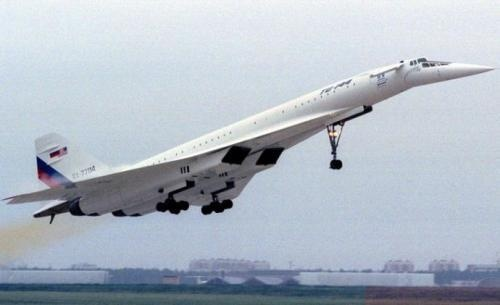airplane: (6, 55, 498, 225)
